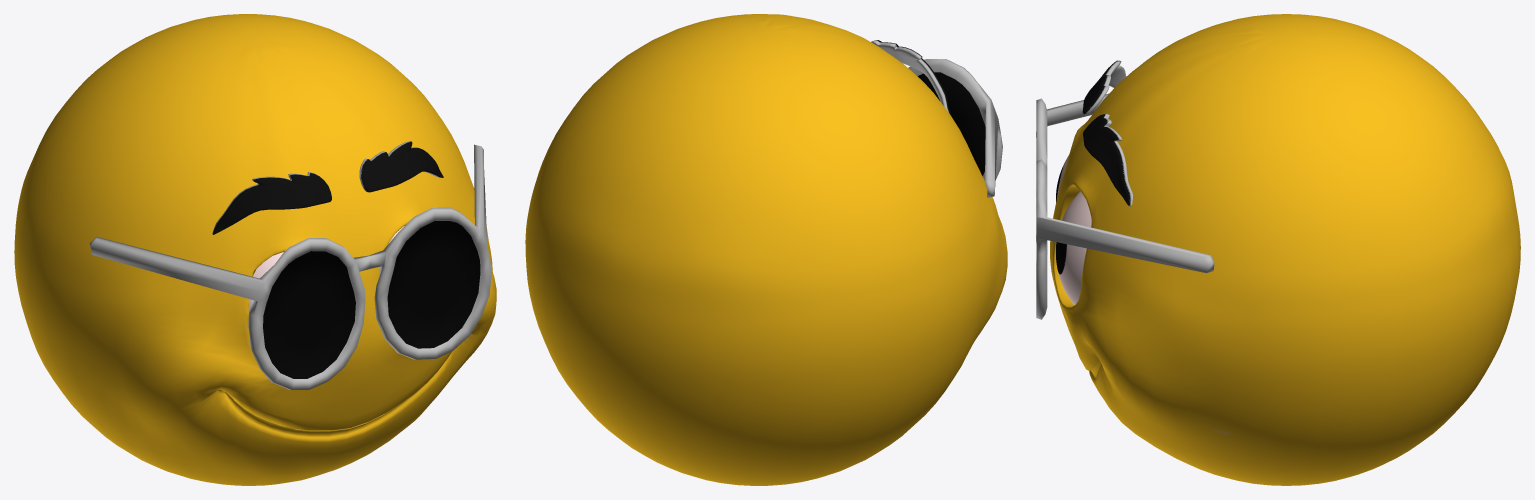
File: cool_000026.obj
The picture shows the model from 3 angles, left to right: view 1: azimuth 30°, elevation 25°; view 2: azimuth 150°, elevation 25°; view 3: azimuth 270°, elevation 25°; orthographic projection.
Parts seen in each view (by area): view 1: Smiley_goggle:Smiley_Untitled.001; view 2: Smiley_goggle:Smiley_Untitled.001; view 3: Smiley_goggle:Smiley_Untitled.001.
Part boxes in pixels (left/top/right/bottom): Smiley_goggle:Smiley_Untitled.001: left=14, top=14, right=496, bottom=485; Smiley_goggle:Smiley_Untitled.001: left=525, top=14, right=1007, bottom=485; Smiley_goggle:Smiley_Untitled.001: left=1036, top=14, right=1520, bottom=485.
Size of the model in its own units: 0.0425 by 0.0431 by 0.044.
2 materials, 2 textured.
